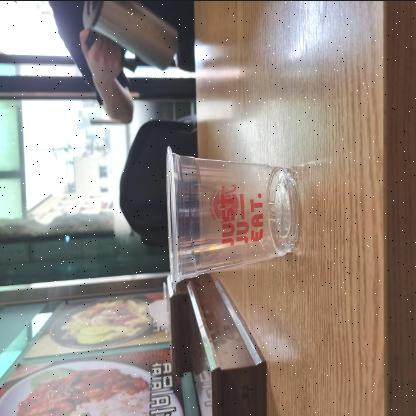Others: (164, 138, 302, 300)
